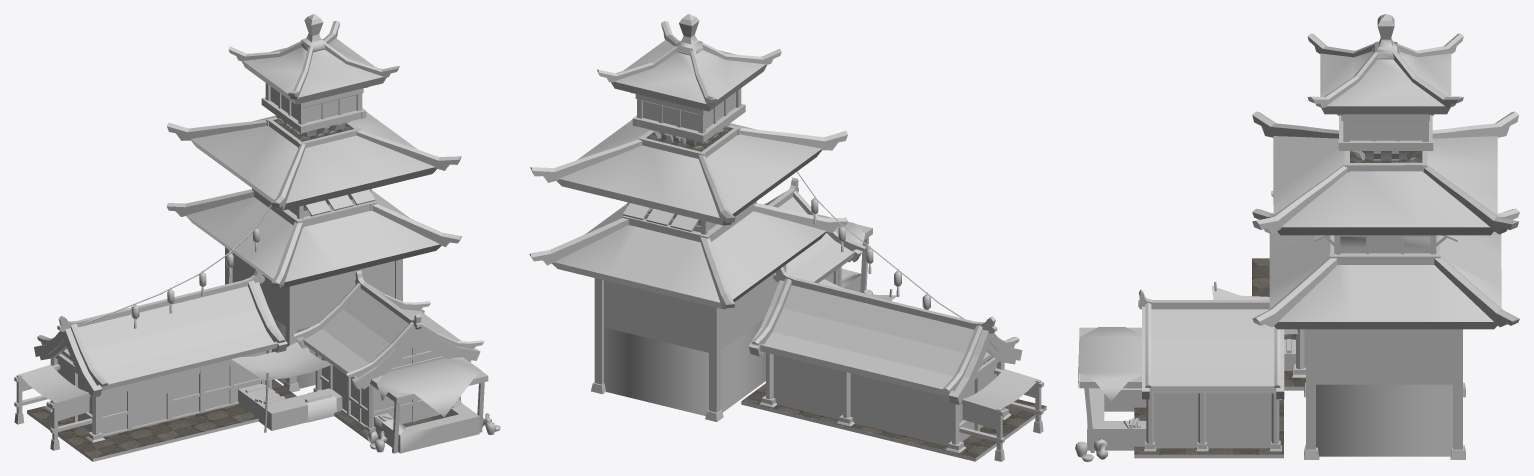
File: s7_3d_jz_guangchang.FBX
3 renders of one model, left to right at view 1: azimuth 30°, elevation 25°; view 2: azimuth 150°, elevation 25°; view 3: azimuth 270°, elevation 25°, orthographic. The views are drawn at different scales.
Parts seen in each view (by area): view 1: T_s7_3d_jz_shangpu_03, T_s7_3d_jz_shangpu_09; view 2: T_s7_3d_jz_shangpu_03, T_s7_3d_jz_shangpu_09; view 3: T_s7_3d_jz_shangpu_03, T_s7_3d_jz_shangpu_09.
Boxes of the visible parts, x1,y1,x2,y2 form: T_s7_3d_jz_shangpu_03: (14, 14, 500, 461); T_s7_3d_jz_shangpu_09: (27, 119, 443, 458); T_s7_3d_jz_shangpu_03: (529, 14, 1046, 461); T_s7_3d_jz_shangpu_09: (646, 127, 1046, 458); T_s7_3d_jz_shangpu_03: (1075, 14, 1519, 461); T_s7_3d_jz_shangpu_09: (1134, 151, 1422, 454).
Size of the model in its own units: 2643 by 2196 by 2152.
